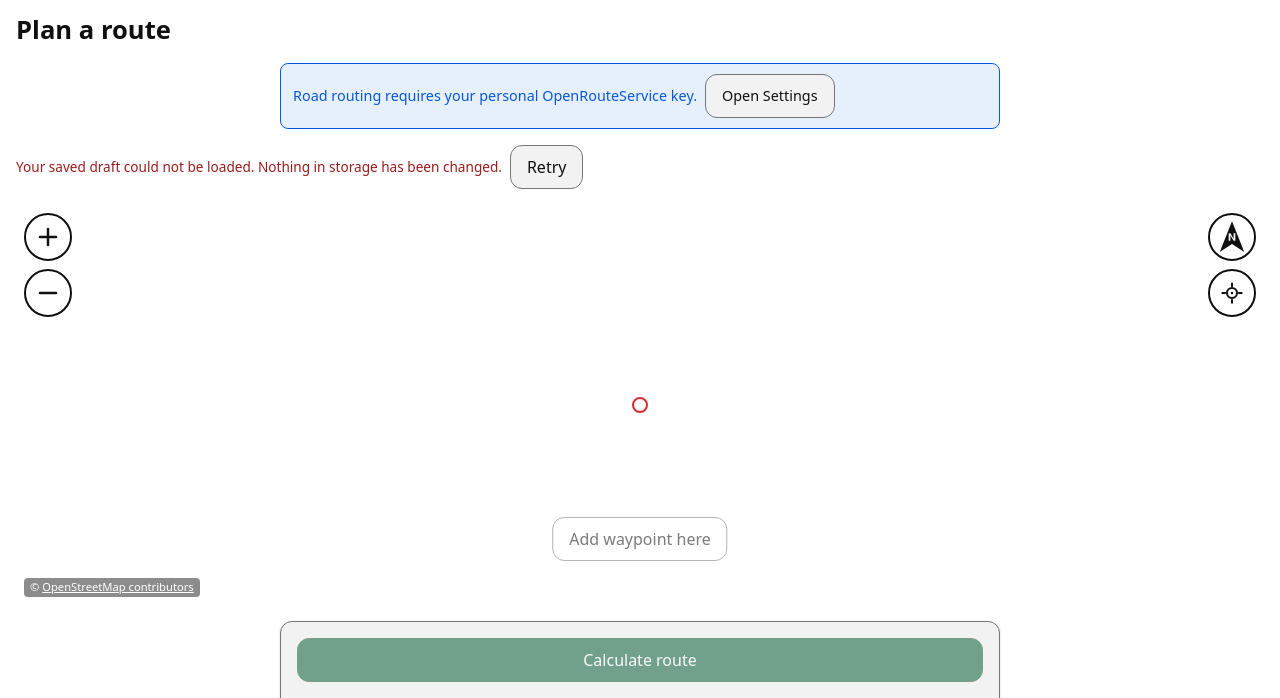
Test case: PlanningScreen draft hydration lifecycle › blocks autosave and shows an accessible failure state when the draft read fails; retry recovers and frames the restored waypoints exactly once
This screenshot has width=1280, height=698.
Expected: the message "Your saved draft could not be loaded. Nothing in storage has been changed." is shown, x1=16 y1=157 x2=502 y2=176
Click the button "Retry".
click(547, 167)  # box x1=510 y1=145 x2=583 y2=189
(page scrolled)
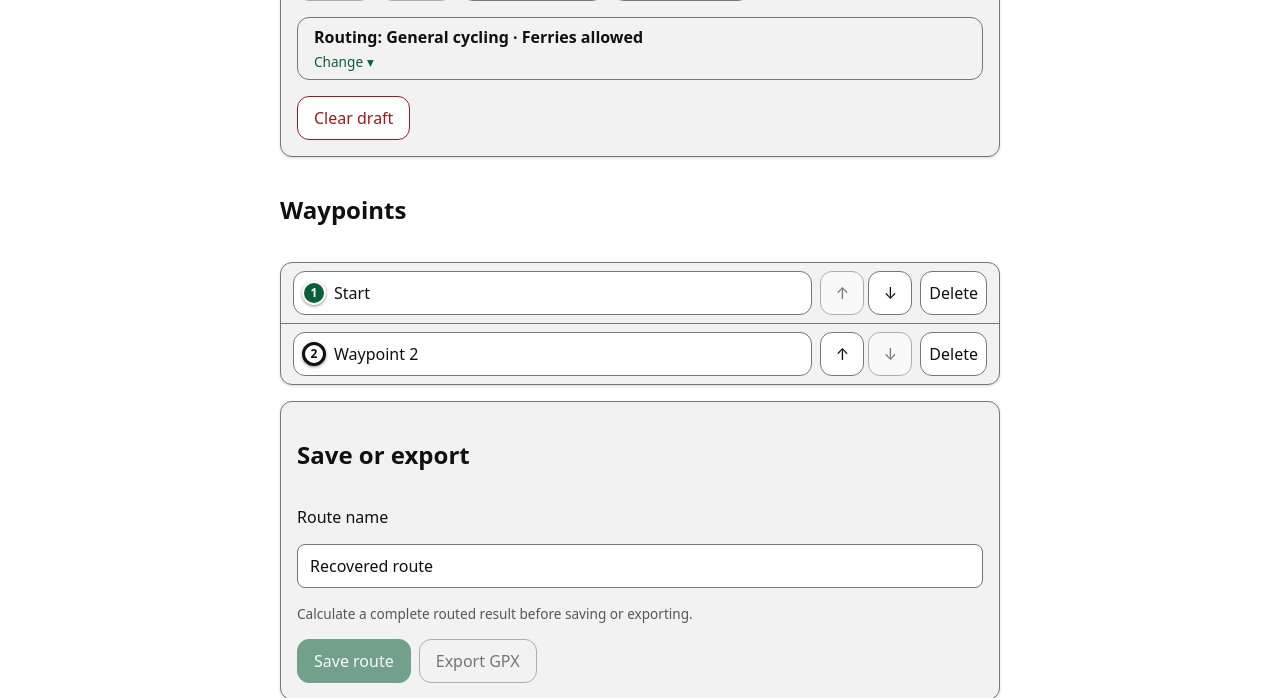
Expected: the field showing "Recovered route" is shown, x1=297 y1=544 x2=983 y2=588
